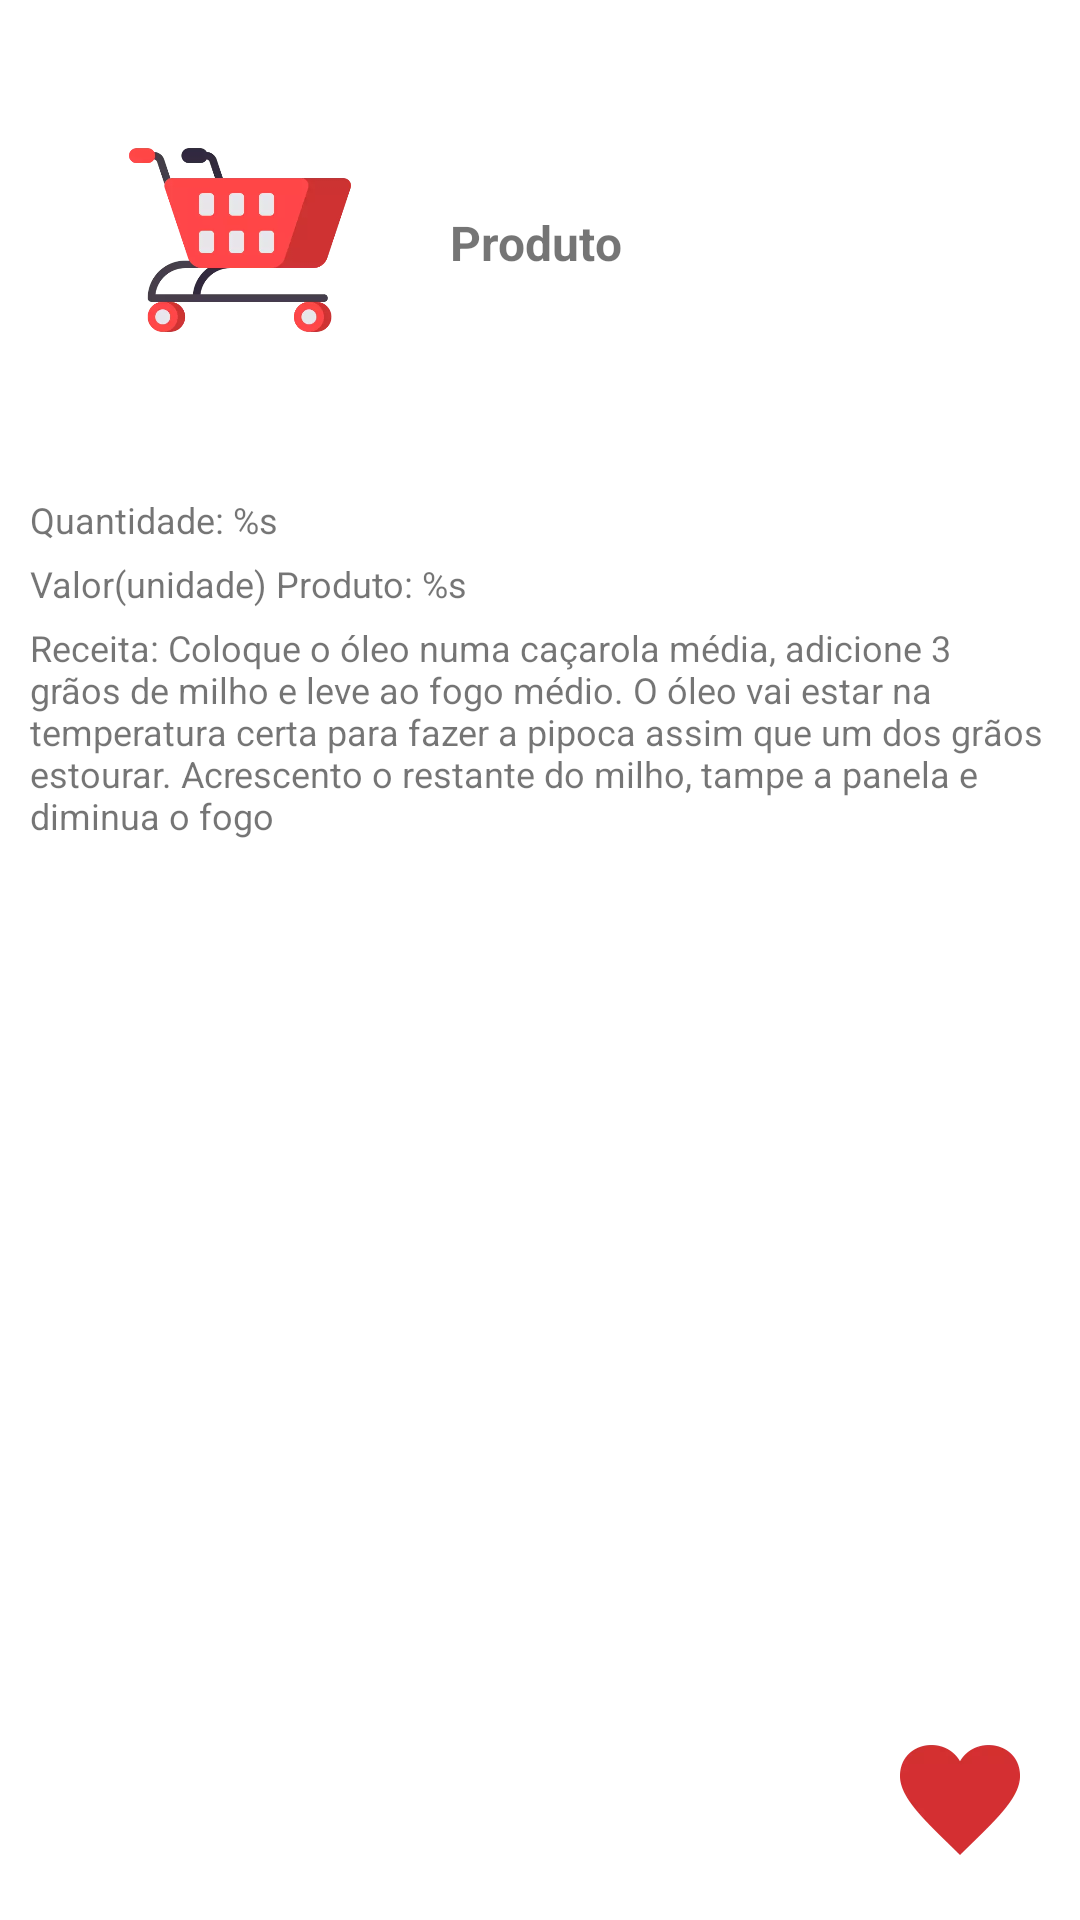

Icons on this 1080px×1920px Android screen, each with its box as detection(x1, y1, x2, y2):
carrinho: detection(129, 148, 351, 332)
favoritar: detection(900, 1745, 1020, 1855)
